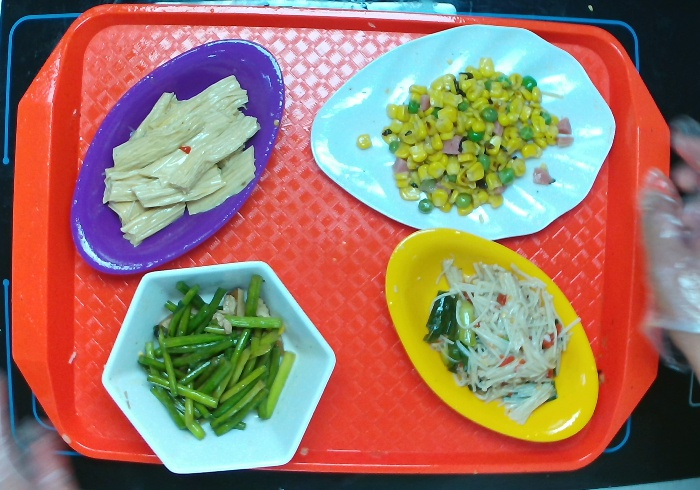RJxy-Bai_Ye_Pan: (308, 21, 618, 241)
RJxy-Fen_Hong_Tuo_Yuan: (69, 35, 286, 275)
RJxy-Huang_Se_Tuo_Yuan: (383, 226, 600, 444)
RJxy-Liu_Jiao_Wan: (100, 256, 339, 476)
